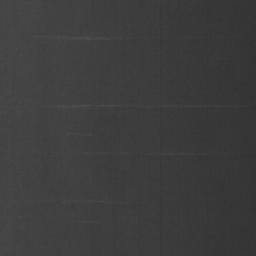Waist folding: (57, 34, 110, 41), (58, 103, 119, 109), (160, 104, 224, 109), (149, 152, 202, 157)
